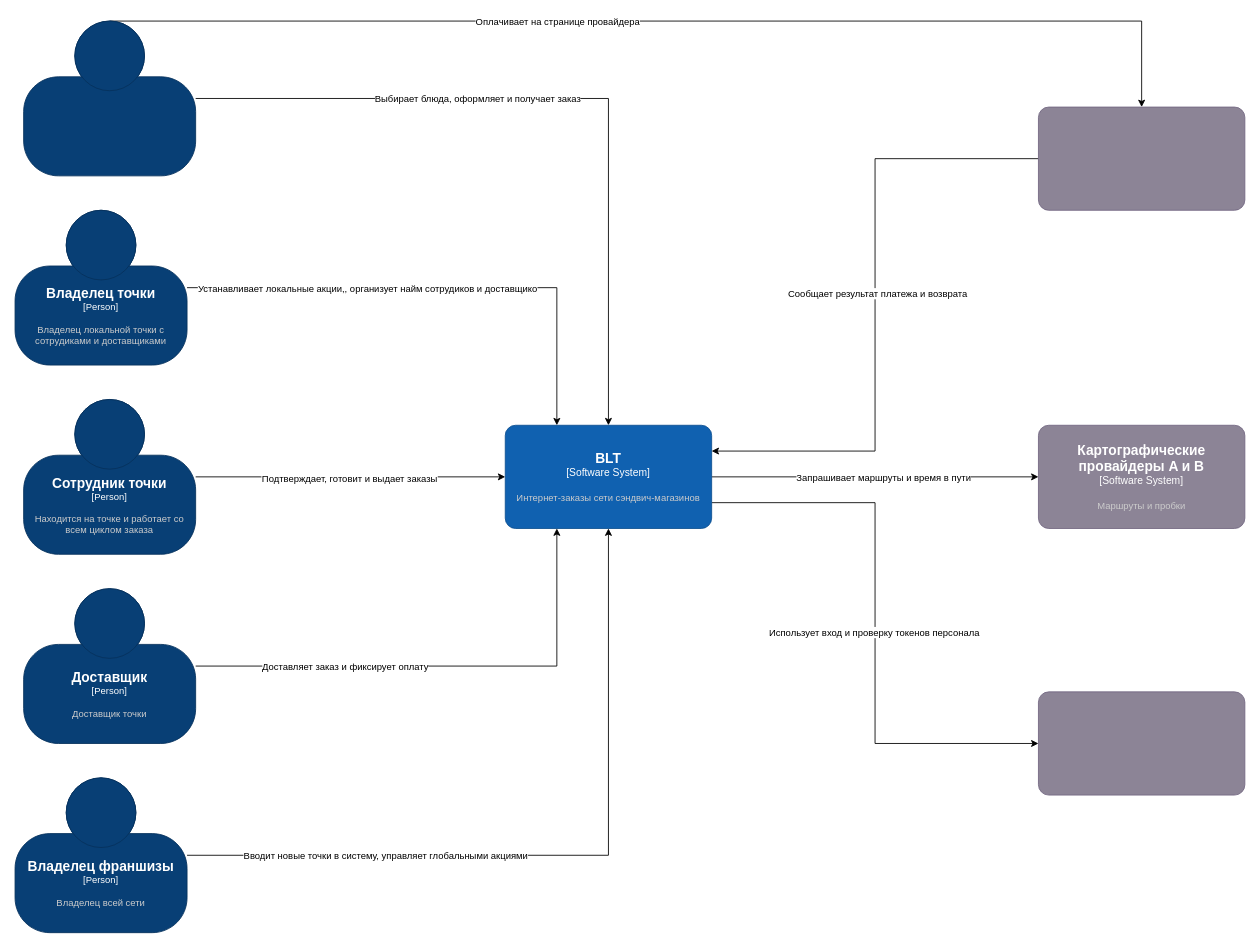
Image size: 1260x948. Some labels were removed from this diagram. The shapes that lost their labels are listed below. From the top down, each one's box as (x1, y1, x2, y2) in pixels, then its label:
(23, 20, 196, 176): Покупатель [Customer] Клиент сэндвич-магазинов
(1038, 106, 1245, 210): Платежный провайдер [Software System] Онлайн-оплата и возвраты
(1038, 691, 1245, 795): Identity Provider [Software System] Идентификация персонала
